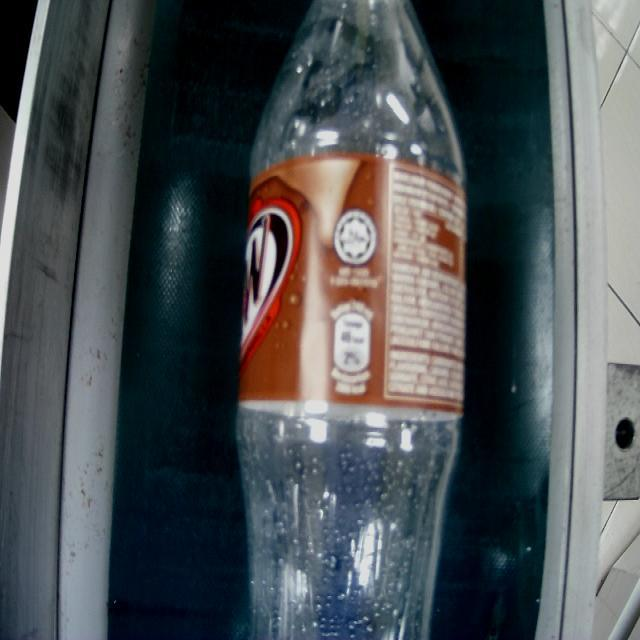Pet_Bottle: (237, 0, 467, 640)
